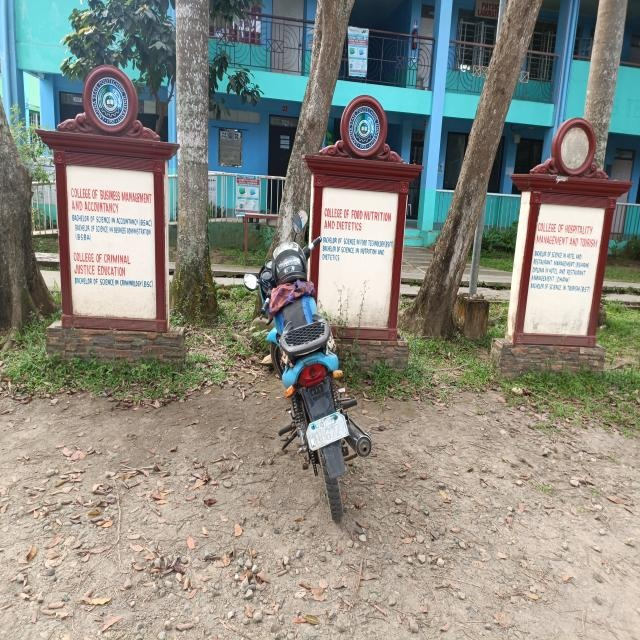Motorcycle: (242, 205, 377, 519)
